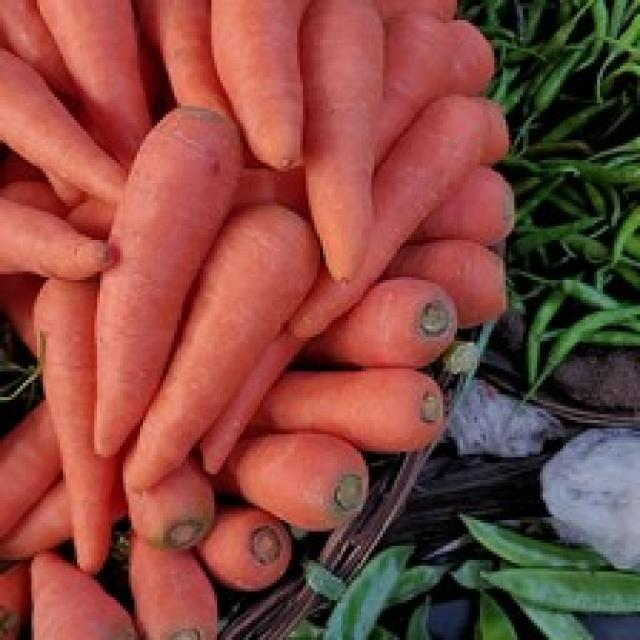Fresh_Carrot: (86, 104, 191, 443), (298, 0, 392, 283), (196, 0, 313, 175)
